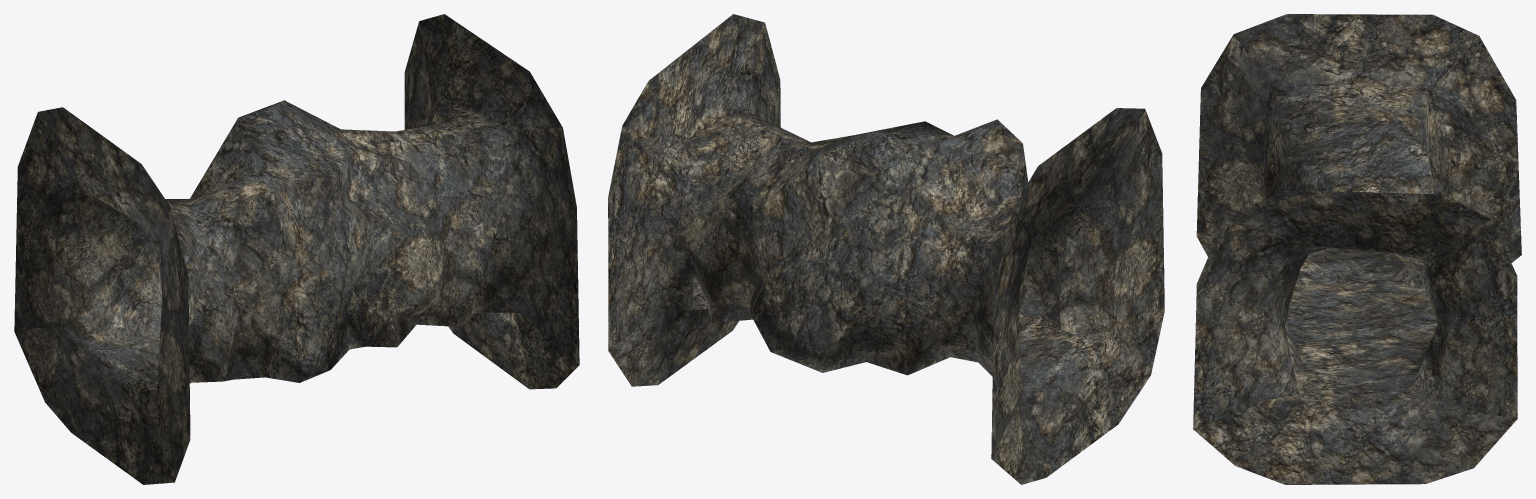
The model's file is Module1_LOD2.fbx.
3 views of the same model, side by side, from view 1: azimuth 30°, elevation 25°; view 2: azimuth 150°, elevation 25°; view 3: azimuth 270°, elevation 25° (orthographic). The views are drawn at different scales.
Parts seen in each view (by area): view 1: cave_el1_1000_Group35625; view 2: cave_el1_1000_Group35625; view 3: cave_el1_1000_Group35625.
Boxes of the visible parts, x1,y1,x2,y2 form: cave_el1_1000_Group35625: (14, 14, 579, 484); cave_el1_1000_Group35625: (608, 14, 1164, 484); cave_el1_1000_Group35625: (1193, 14, 1521, 484).
Size of the model in its own units: 10.63 by 8.39 by 8.41.
